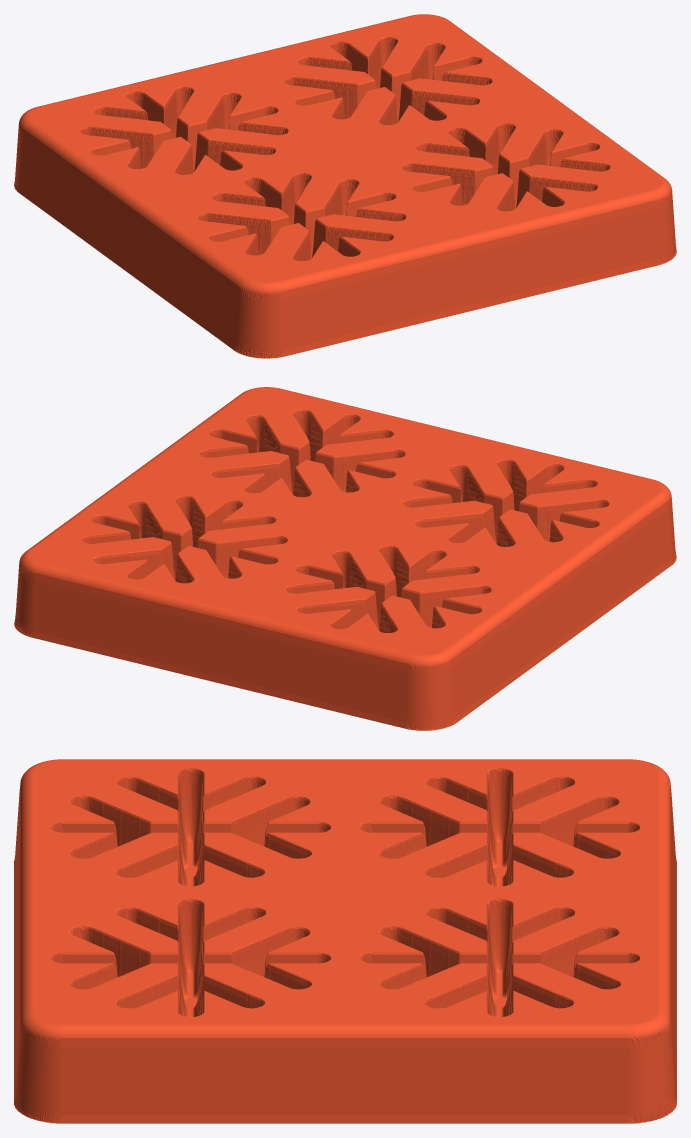
File: mold.glb
3 views of the same model, one above another, from view 1: azimuth 30°, elevation 25°; view 2: azimuth 150°, elevation 25°; view 3: azimuth 270°, elevation 25° (orthographic). The views are drawn at different scales.
Parts seen in each view (by area): view 1: geometry_0; view 2: geometry_0; view 3: geometry_0.
Boxes of the visible parts, <box> form: geometry_0: <box>14,14,676,358</box>; geometry_0: <box>14,387,676,730</box>; geometry_0: <box>14,759,676,1123</box>.
Size of the model in its own units: 0.1218 by 0.0185 by 0.1218.
